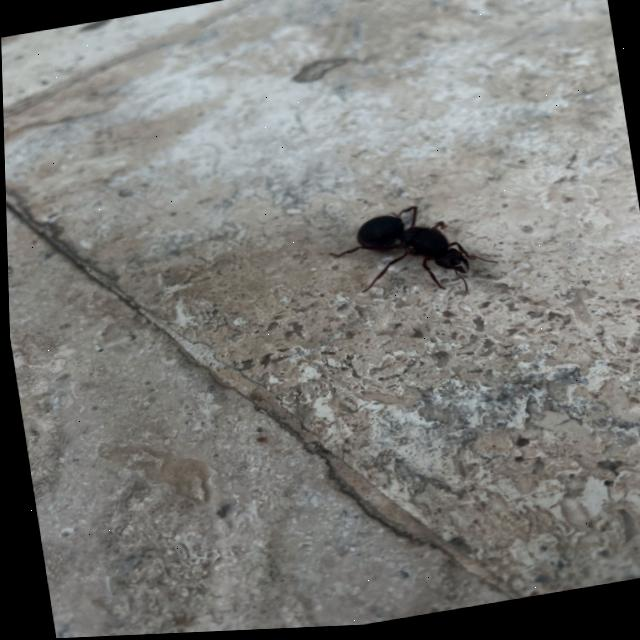Alive-Female-Dealate: (321, 197, 500, 317)
